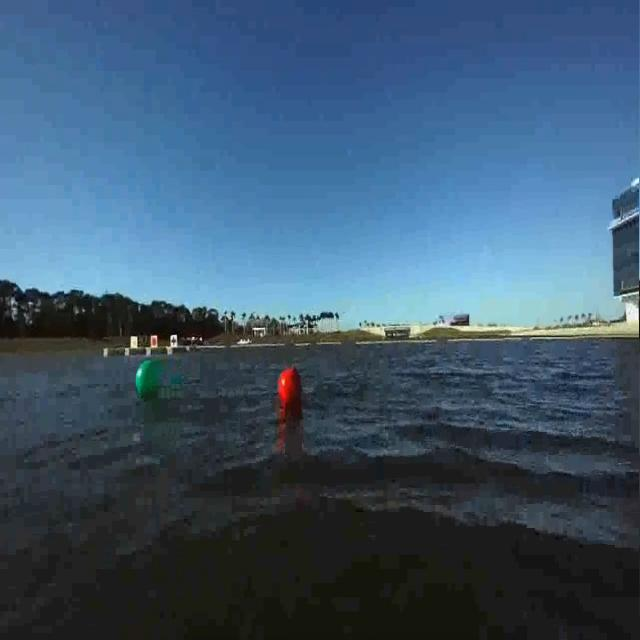green-buoy: (126, 357, 171, 404)
red-buoy: (274, 372, 304, 412)
